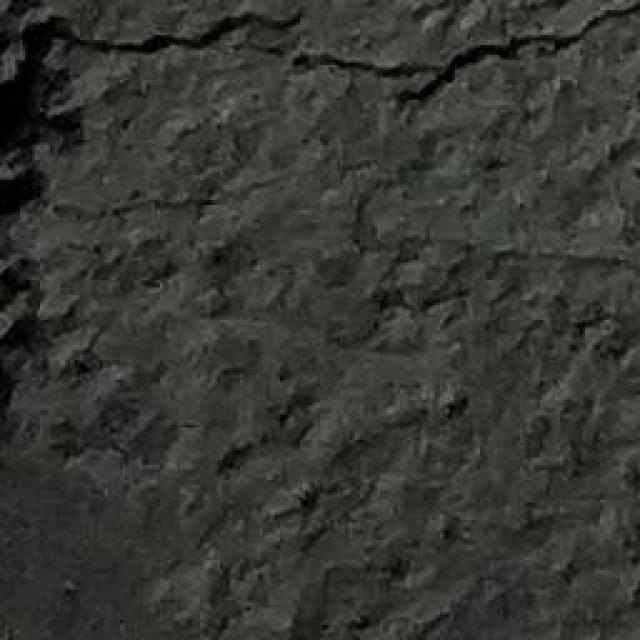Rippled: (0, 0, 72, 413)
Transverse: (74, 11, 640, 97)
